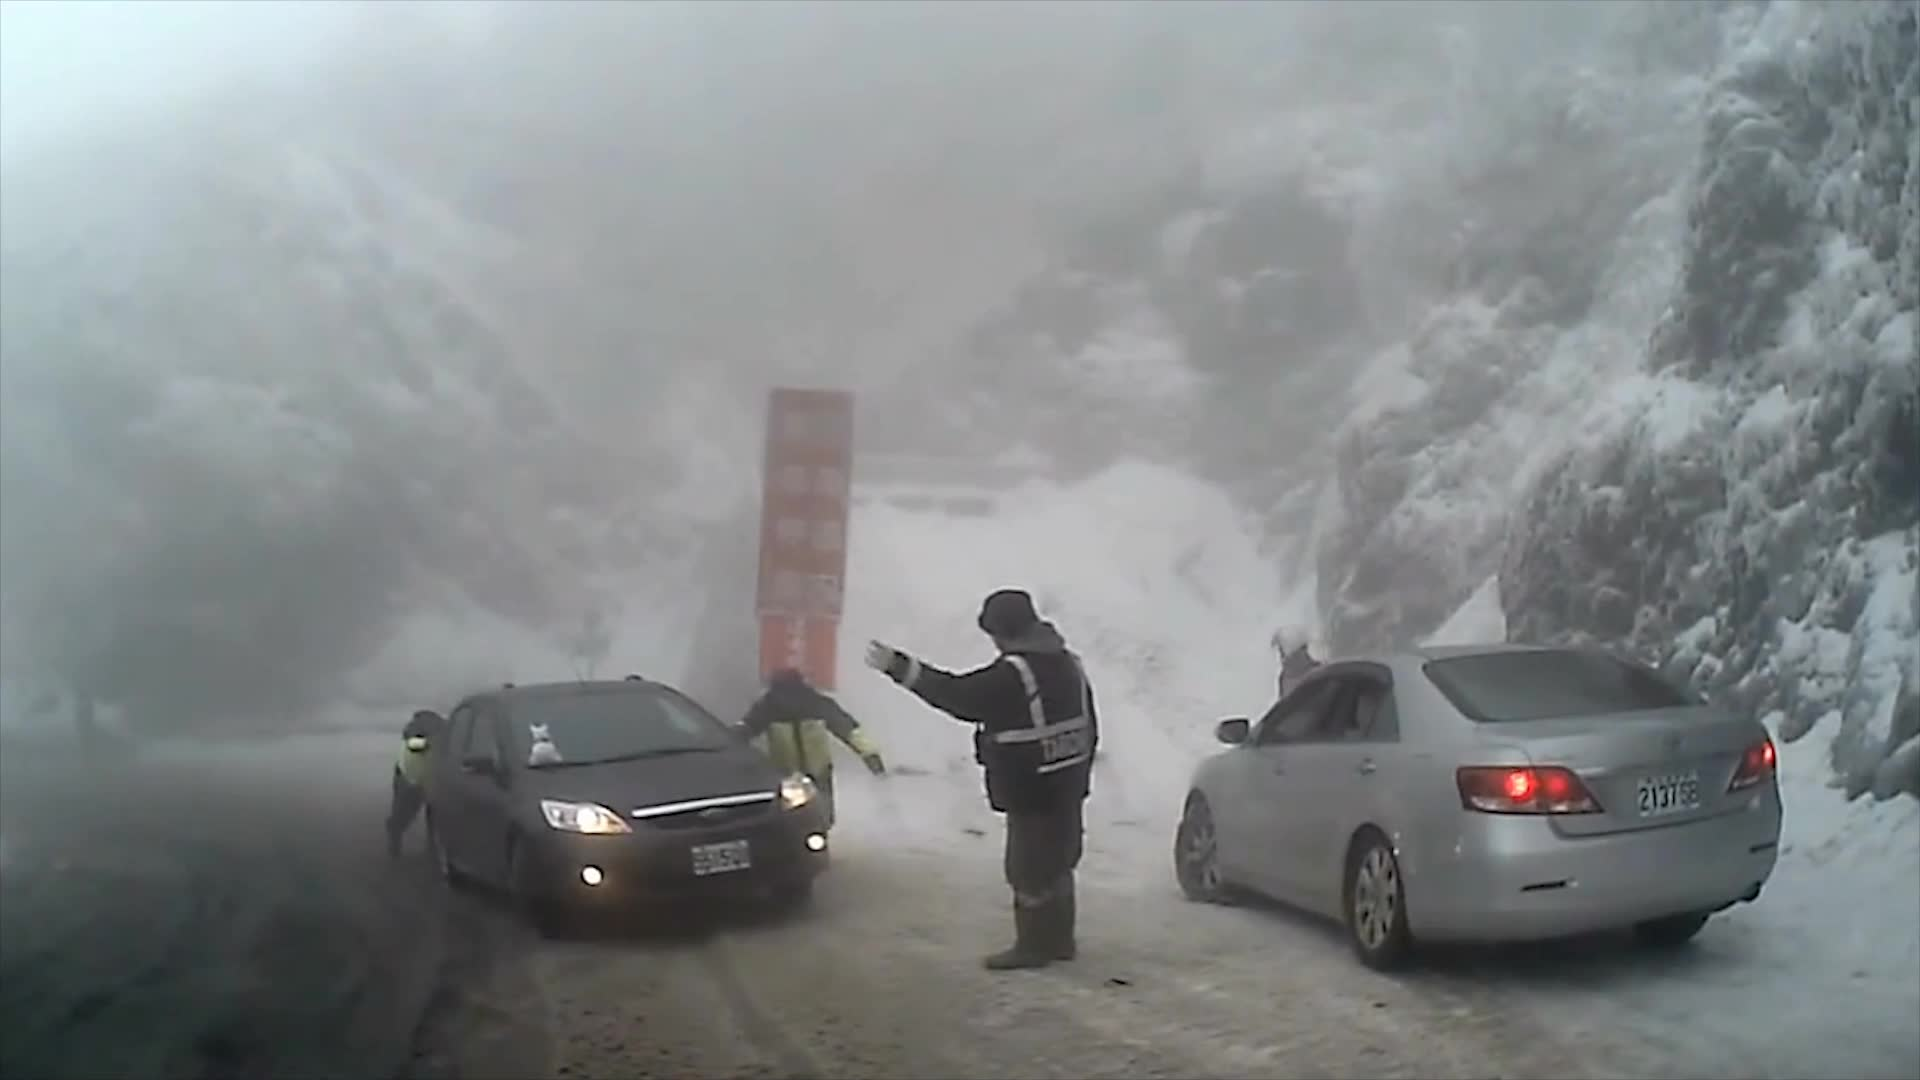pedestrian: (864, 589, 1102, 970), (732, 663, 880, 869), (1267, 624, 1337, 826), (384, 711, 472, 857)
vehicle: (1173, 644, 1783, 971), (422, 676, 832, 944)
